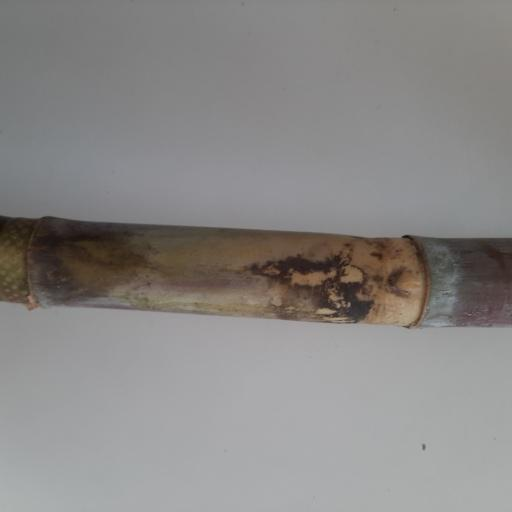Bud: (387, 267, 423, 299)
